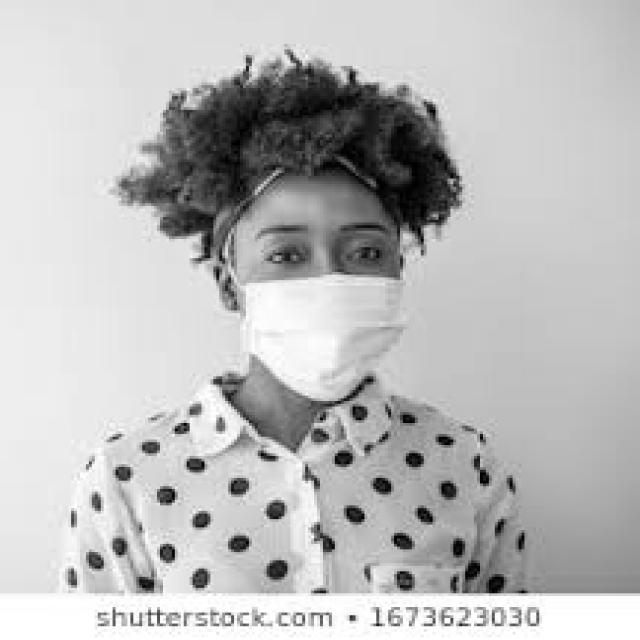without_mask: (219, 223, 412, 401)
